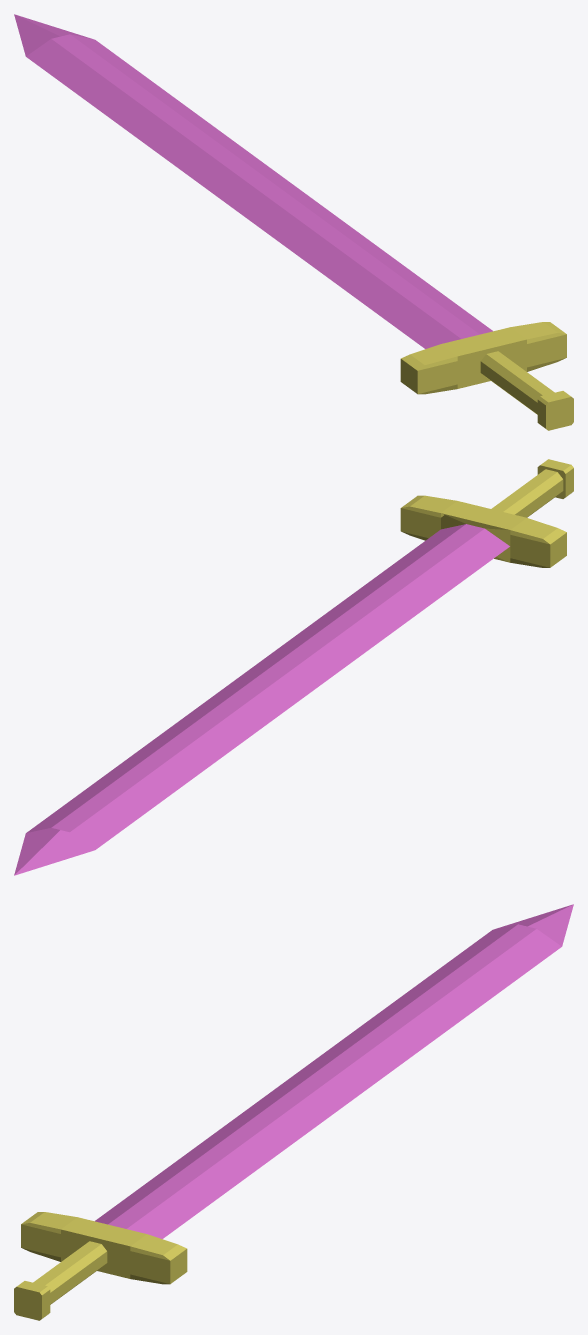
Rendered from Sword.fbx.
3 views of the same model, one above another, from view 1: azimuth 30°, elevation 25°; view 2: azimuth 150°, elevation 25°; view 3: azimuth 330°, elevation 25° (orthographic).
Parts seen in each view (by area): view 1: Cube; view 2: Cube; view 3: Cube.
Part boxes in pixels (x1,y1,x2,y2): Cube: (14,14,573,430); Cube: (14,459,573,875); Cube: (14,904,573,1320).
Size of the model in its own units: 99.51 by 20.79 by 629.
